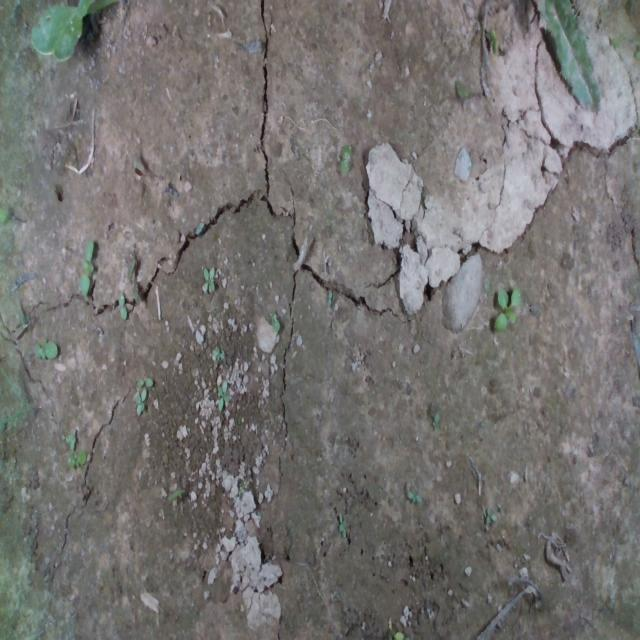weed: (198, 260, 220, 296), (268, 308, 286, 344), (114, 289, 128, 325), (32, 341, 58, 360), (406, 484, 426, 506), (213, 383, 227, 410), (132, 388, 146, 415), (66, 449, 85, 467), (431, 409, 440, 431), (136, 377, 154, 385)
